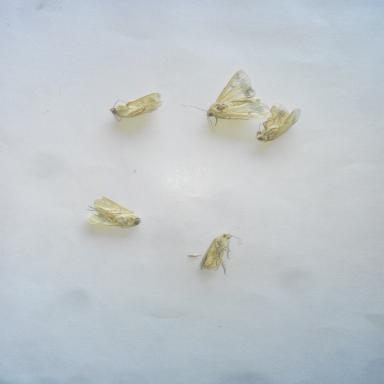abw: (178, 66, 277, 137), (78, 194, 148, 230), (195, 230, 247, 276), (103, 89, 166, 125), (254, 101, 303, 145)
